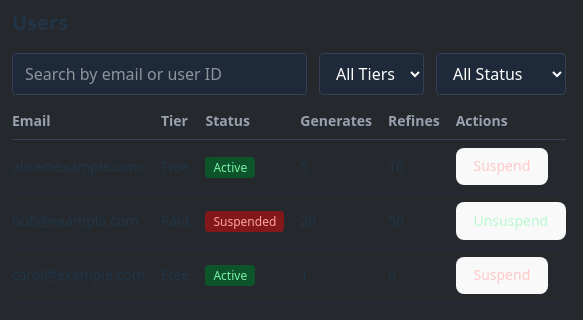
AdminUsers › filters users by search query on client side
This screenshot has width=583, height=320.
Expected: the text "alice@example.com" is shown, left=12, top=139, right=161, bottom=194
Expected: the text "bob@example.com" is shown, left=12, top=194, right=161, bottom=248
Type "alice" into the field with placeholder "Search by email or user ID" at (160, 74), box left=12, top=53, right=307, bottom=95
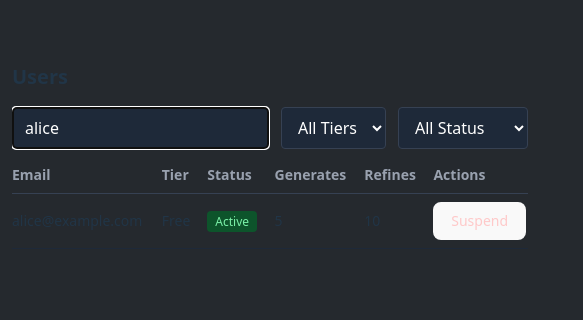
Expected: the text "alice@example.com" is shown, left=12, top=194, right=162, bottom=248
Expected: the text "bob@example.com" is gone
Expected: the text "carol@example.com" is gone
